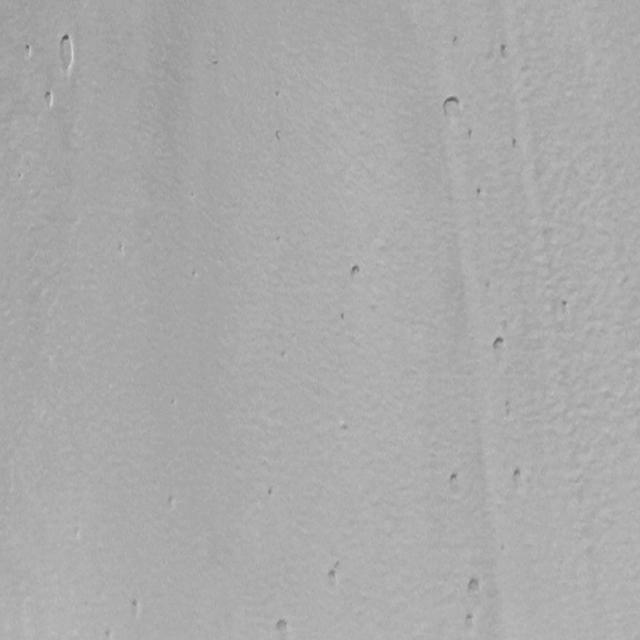pin holes: (54, 32, 76, 74), (438, 94, 465, 124), (507, 464, 530, 492), (445, 468, 467, 496), (488, 335, 510, 363), (458, 611, 481, 637), (125, 597, 146, 624), (464, 574, 485, 600), (323, 564, 343, 591), (272, 616, 294, 638), (348, 260, 368, 284), (494, 41, 514, 62), (42, 89, 58, 110), (474, 184, 488, 203), (561, 298, 574, 318), (504, 398, 514, 424), (449, 34, 463, 52), (116, 241, 130, 258), (264, 484, 279, 499), (509, 136, 524, 150), (100, 626, 115, 640), (337, 308, 351, 323), (23, 43, 34, 62), (465, 127, 478, 142), (273, 87, 285, 101), (168, 494, 178, 509), (74, 526, 82, 541), (274, 233, 282, 246), (192, 268, 200, 280)
